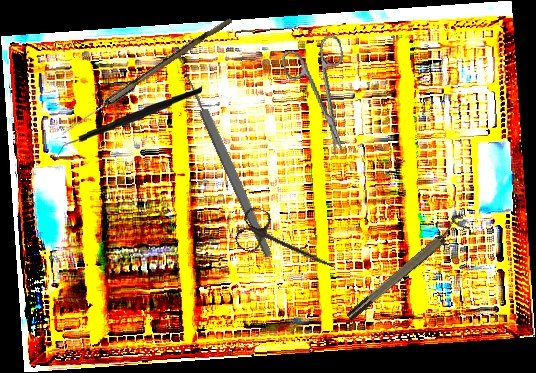Chopper: (54, 86, 205, 158)
Fixation Ring: (340, 211, 471, 324)
Iris Scissors: (278, 32, 368, 165), (232, 204, 345, 286)
Surgical Spoon: (169, 44, 276, 259), (60, 13, 233, 139)
